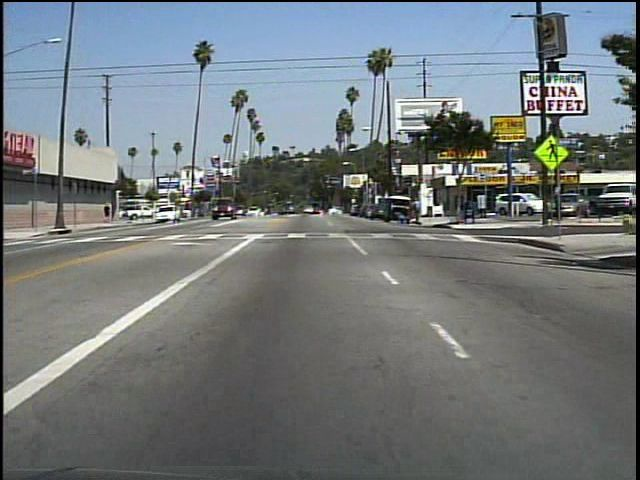person: (409, 196, 424, 227), (395, 210, 411, 229), (103, 199, 113, 224)
